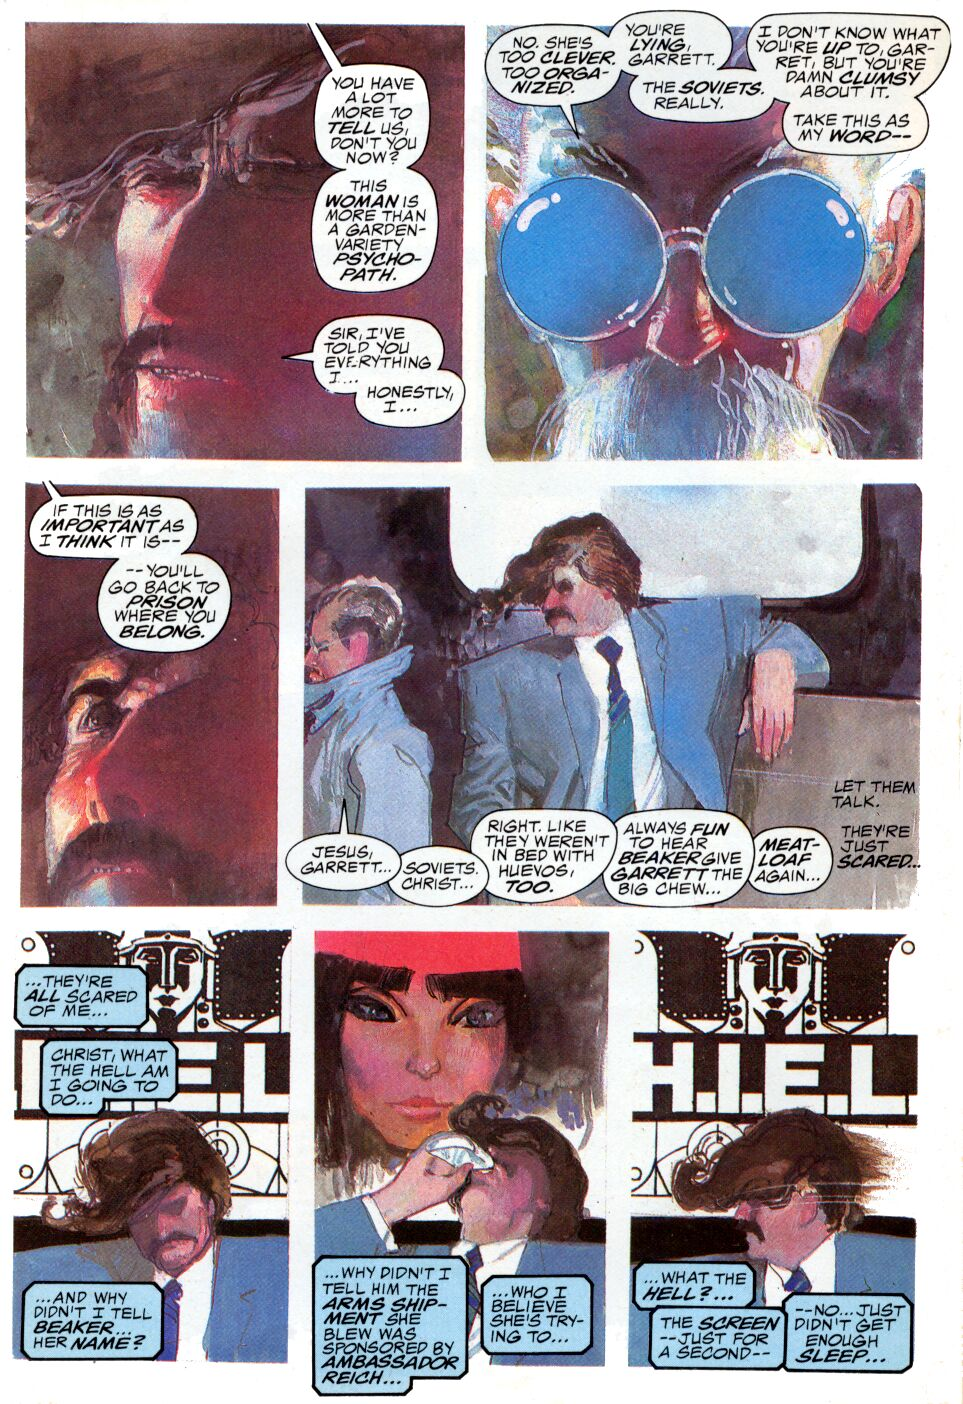Baloon: (301, 20, 438, 291), (750, 12, 953, 154), (289, 314, 461, 429), (312, 1261, 463, 1391), (478, 799, 614, 899), (27, 482, 199, 561), (610, 812, 755, 902), (480, 25, 614, 110), (14, 1285, 159, 1361), (99, 559, 229, 644), (41, 1033, 176, 1112), (784, 1291, 910, 1374), (831, 771, 916, 893), (287, 808, 401, 895), (655, 1301, 791, 1367), (627, 65, 767, 129), (482, 1276, 597, 1350), (16, 963, 150, 1023), (610, 14, 727, 78), (389, 844, 491, 910), (631, 1261, 755, 1310), (744, 823, 825, 897)
Vignetta: (301, 484, 916, 906), (21, 23, 467, 463), (480, 27, 922, 457), (629, 923, 929, 1382), (319, 927, 605, 1404), (9, 925, 291, 1361), (21, 484, 280, 908)
